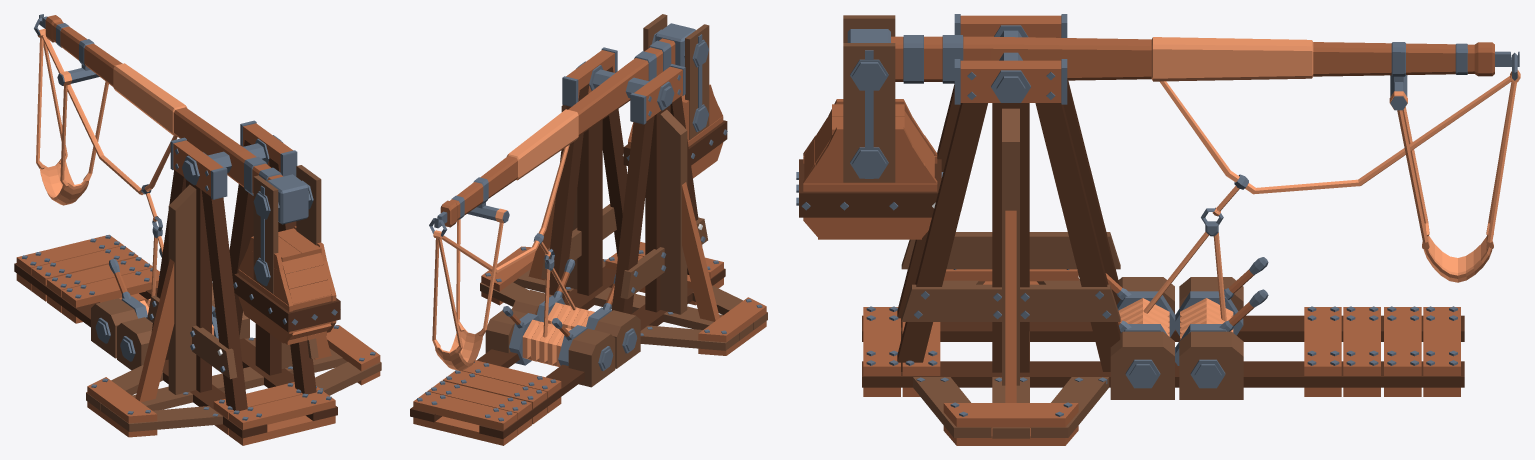
Rendered from trebuchet.gltf.
The picture shows the model from 3 angles, left to right: view 1: azimuth 30°, elevation 25°; view 2: azimuth 150°, elevation 25°; view 3: azimuth 270°, elevation 25°; orthographic projection. The views are drawn at different scales.
Visible parts, largest first — view 1: Cube, Cube.010, Plane, Cube.008, Cube.054, Cube.038, Cube.075, Cylinder.009, Cube.027, Cube.042, Cube.083, Cube.035 (+6 smaller); view 2: Cube, Cube.010, Plane, Cube.008, Cube.038, Cube.083, Cube.075, Cylinder.009, Cube.027, Cube.035, Cube.042, Cylinder.024 (+6 smaller); view 3: Cube, Cube.010, Plane, Cube.008, Cube.075, Cube.083, Cube.054, Cylinder.009, Cube.027, Cube.042, Cube.072, Cube.038 (+5 smaller).
Boxes of the visible parts, x1,y1,x2,y2 form: Cube: [14, 140, 337, 438]; Cube.010: [16, 234, 380, 445]; Plane: [36, 28, 213, 335]; Cube.008: [86, 295, 381, 431]; Cube.054: [238, 226, 336, 344]; Cube.038: [168, 184, 292, 394]; Cube.075: [45, 15, 282, 193]; Cylinder.009: [22, 14, 375, 420]; Cube.027: [170, 120, 297, 199]; Cube.042: [253, 165, 321, 293]; Cube.083: [91, 283, 249, 370]; Cube.035: [135, 259, 331, 402]; Cube: [410, 66, 725, 438]; Cube.010: [413, 241, 766, 445]; Plane: [432, 109, 594, 370]; Cube.008: [480, 204, 767, 350]; Cube.038: [561, 105, 687, 314]; Cube.083: [485, 290, 640, 387]; Cube.075: [440, 38, 675, 227]; Cylinder.009: [417, 40, 762, 421]; Cube.027: [562, 47, 685, 124]; Cube.035: [528, 182, 719, 321]; Cube.042: [643, 14, 709, 139]; Cylinder.024: [509, 295, 611, 365]; Cube: [862, 80, 1464, 387]; Cube.010: [863, 269, 1460, 445]; Plane: [1118, 37, 1520, 339]; Cube.008: [901, 232, 1120, 438]; Cube.075: [891, 36, 1494, 81]; Cube.083: [1110, 277, 1243, 399]; Cube.054: [803, 99, 937, 239]; Cylinder.009: [796, 25, 1519, 416]; Cube.027: [954, 14, 1067, 104]; Cube.042: [843, 15, 895, 182]; Cube.072: [799, 159, 941, 217]; Cube.038: [1002, 108, 1019, 385].
Bounding box in the file's own units: 710 × 683 × 1332.
